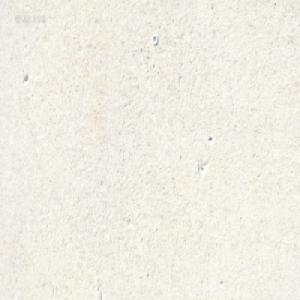Washer: (151, 34, 158, 45)
